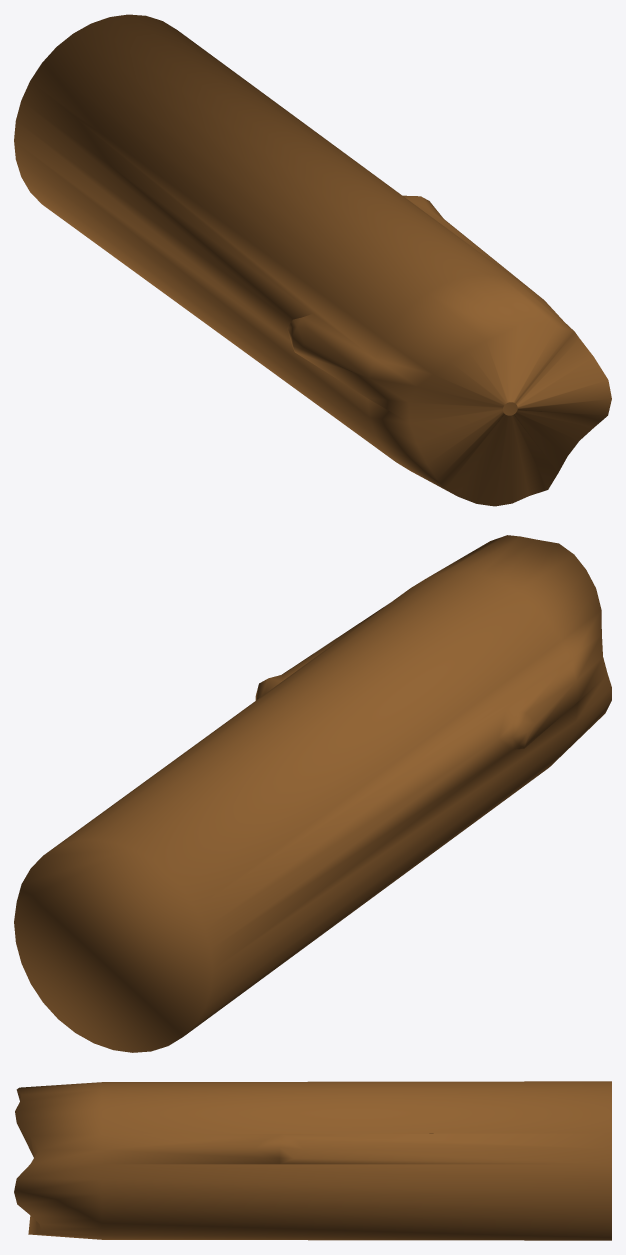
3 views of the same model, one above another, from view 1: azimuth 30°, elevation 25°; view 2: azimuth 150°, elevation 25°; view 3: azimuth 270°, elevation 25° (orthographic). The views are drawn at different scales.
Bounding box in the file's own units: 0.0965 × 0.0905 × 0.3393.
